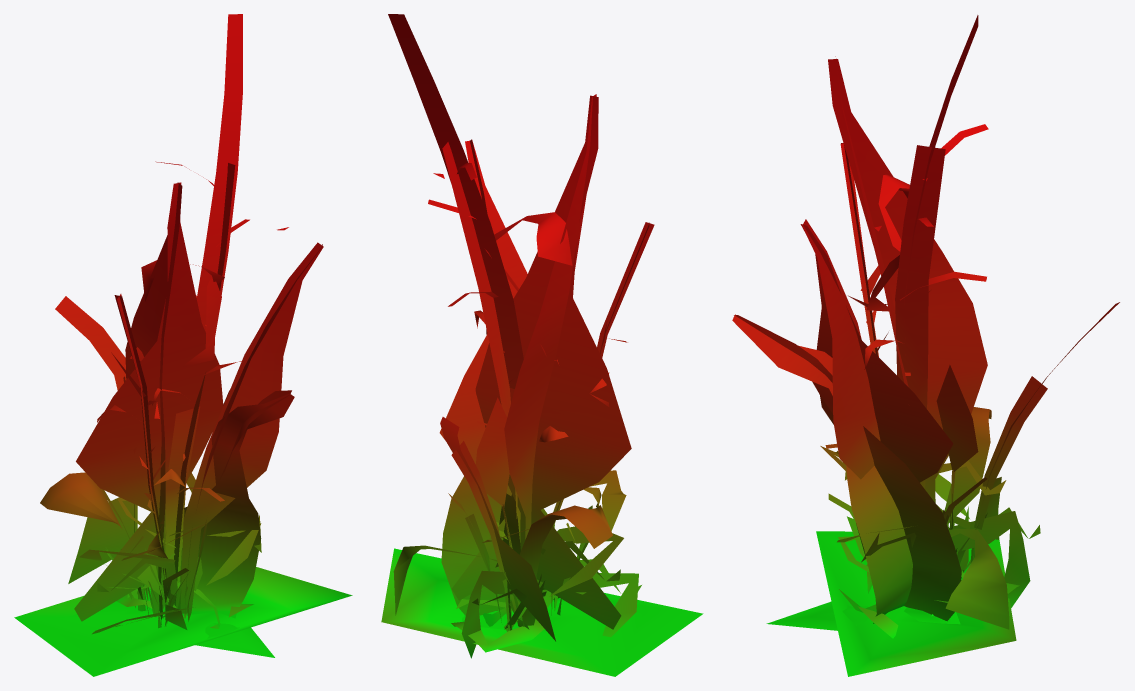
The model's file is SM_Dry_Grass_tbbqejqr_01_N1.fbx.
3 renders of one model, left to right at view 1: azimuth 30°, elevation 25°; view 2: azimuth 150°, elevation 25°; view 3: azimuth 270°, elevation 25°, orthographic. The views are drawn at different scales.
Parts seen in each view (by area): view 1: SM_Dry_Grass_tbbqejqr_01_N1; view 2: SM_Dry_Grass_tbbqejqr_01_N1; view 3: SM_Dry_Grass_tbbqejqr_01_N1.
Boxes of the visible parts, left/top/right/bottom form: SM_Dry_Grass_tbbqejqr_01_N1: left=14, top=14, right=352, bottom=676; SM_Dry_Grass_tbbqejqr_01_N1: left=381, top=14, right=703, bottom=676; SM_Dry_Grass_tbbqejqr_01_N1: left=732, top=15, right=1119, bottom=676.
Size of the model in its own units: 17.04 by 18.58 by 34.39.
